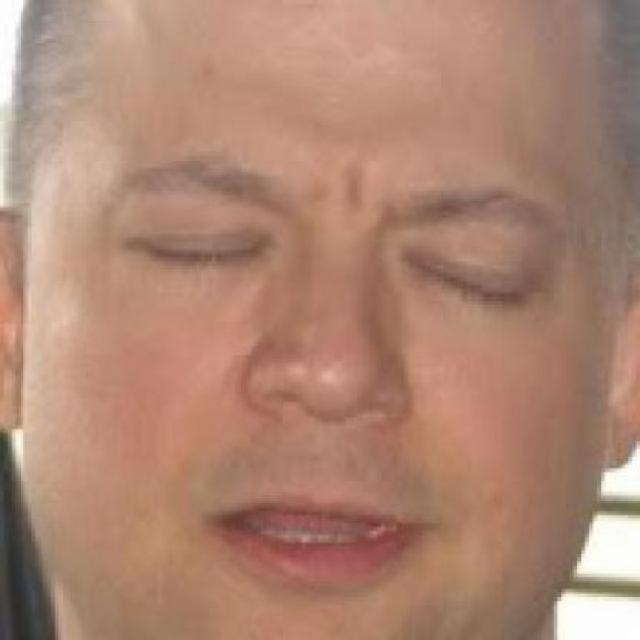drowsy: (118, 226, 270, 283), (410, 244, 524, 319)
